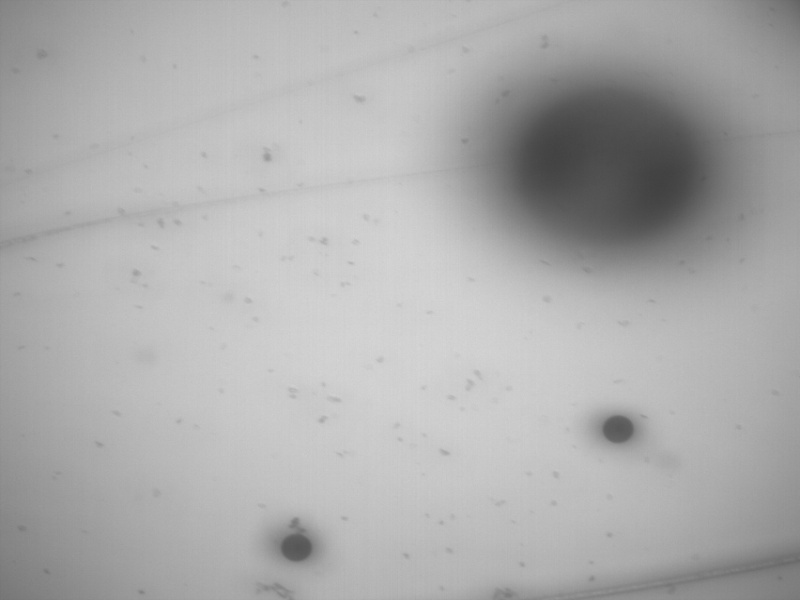bead: (517, 93, 708, 242), (279, 532, 316, 563), (602, 414, 635, 444)
